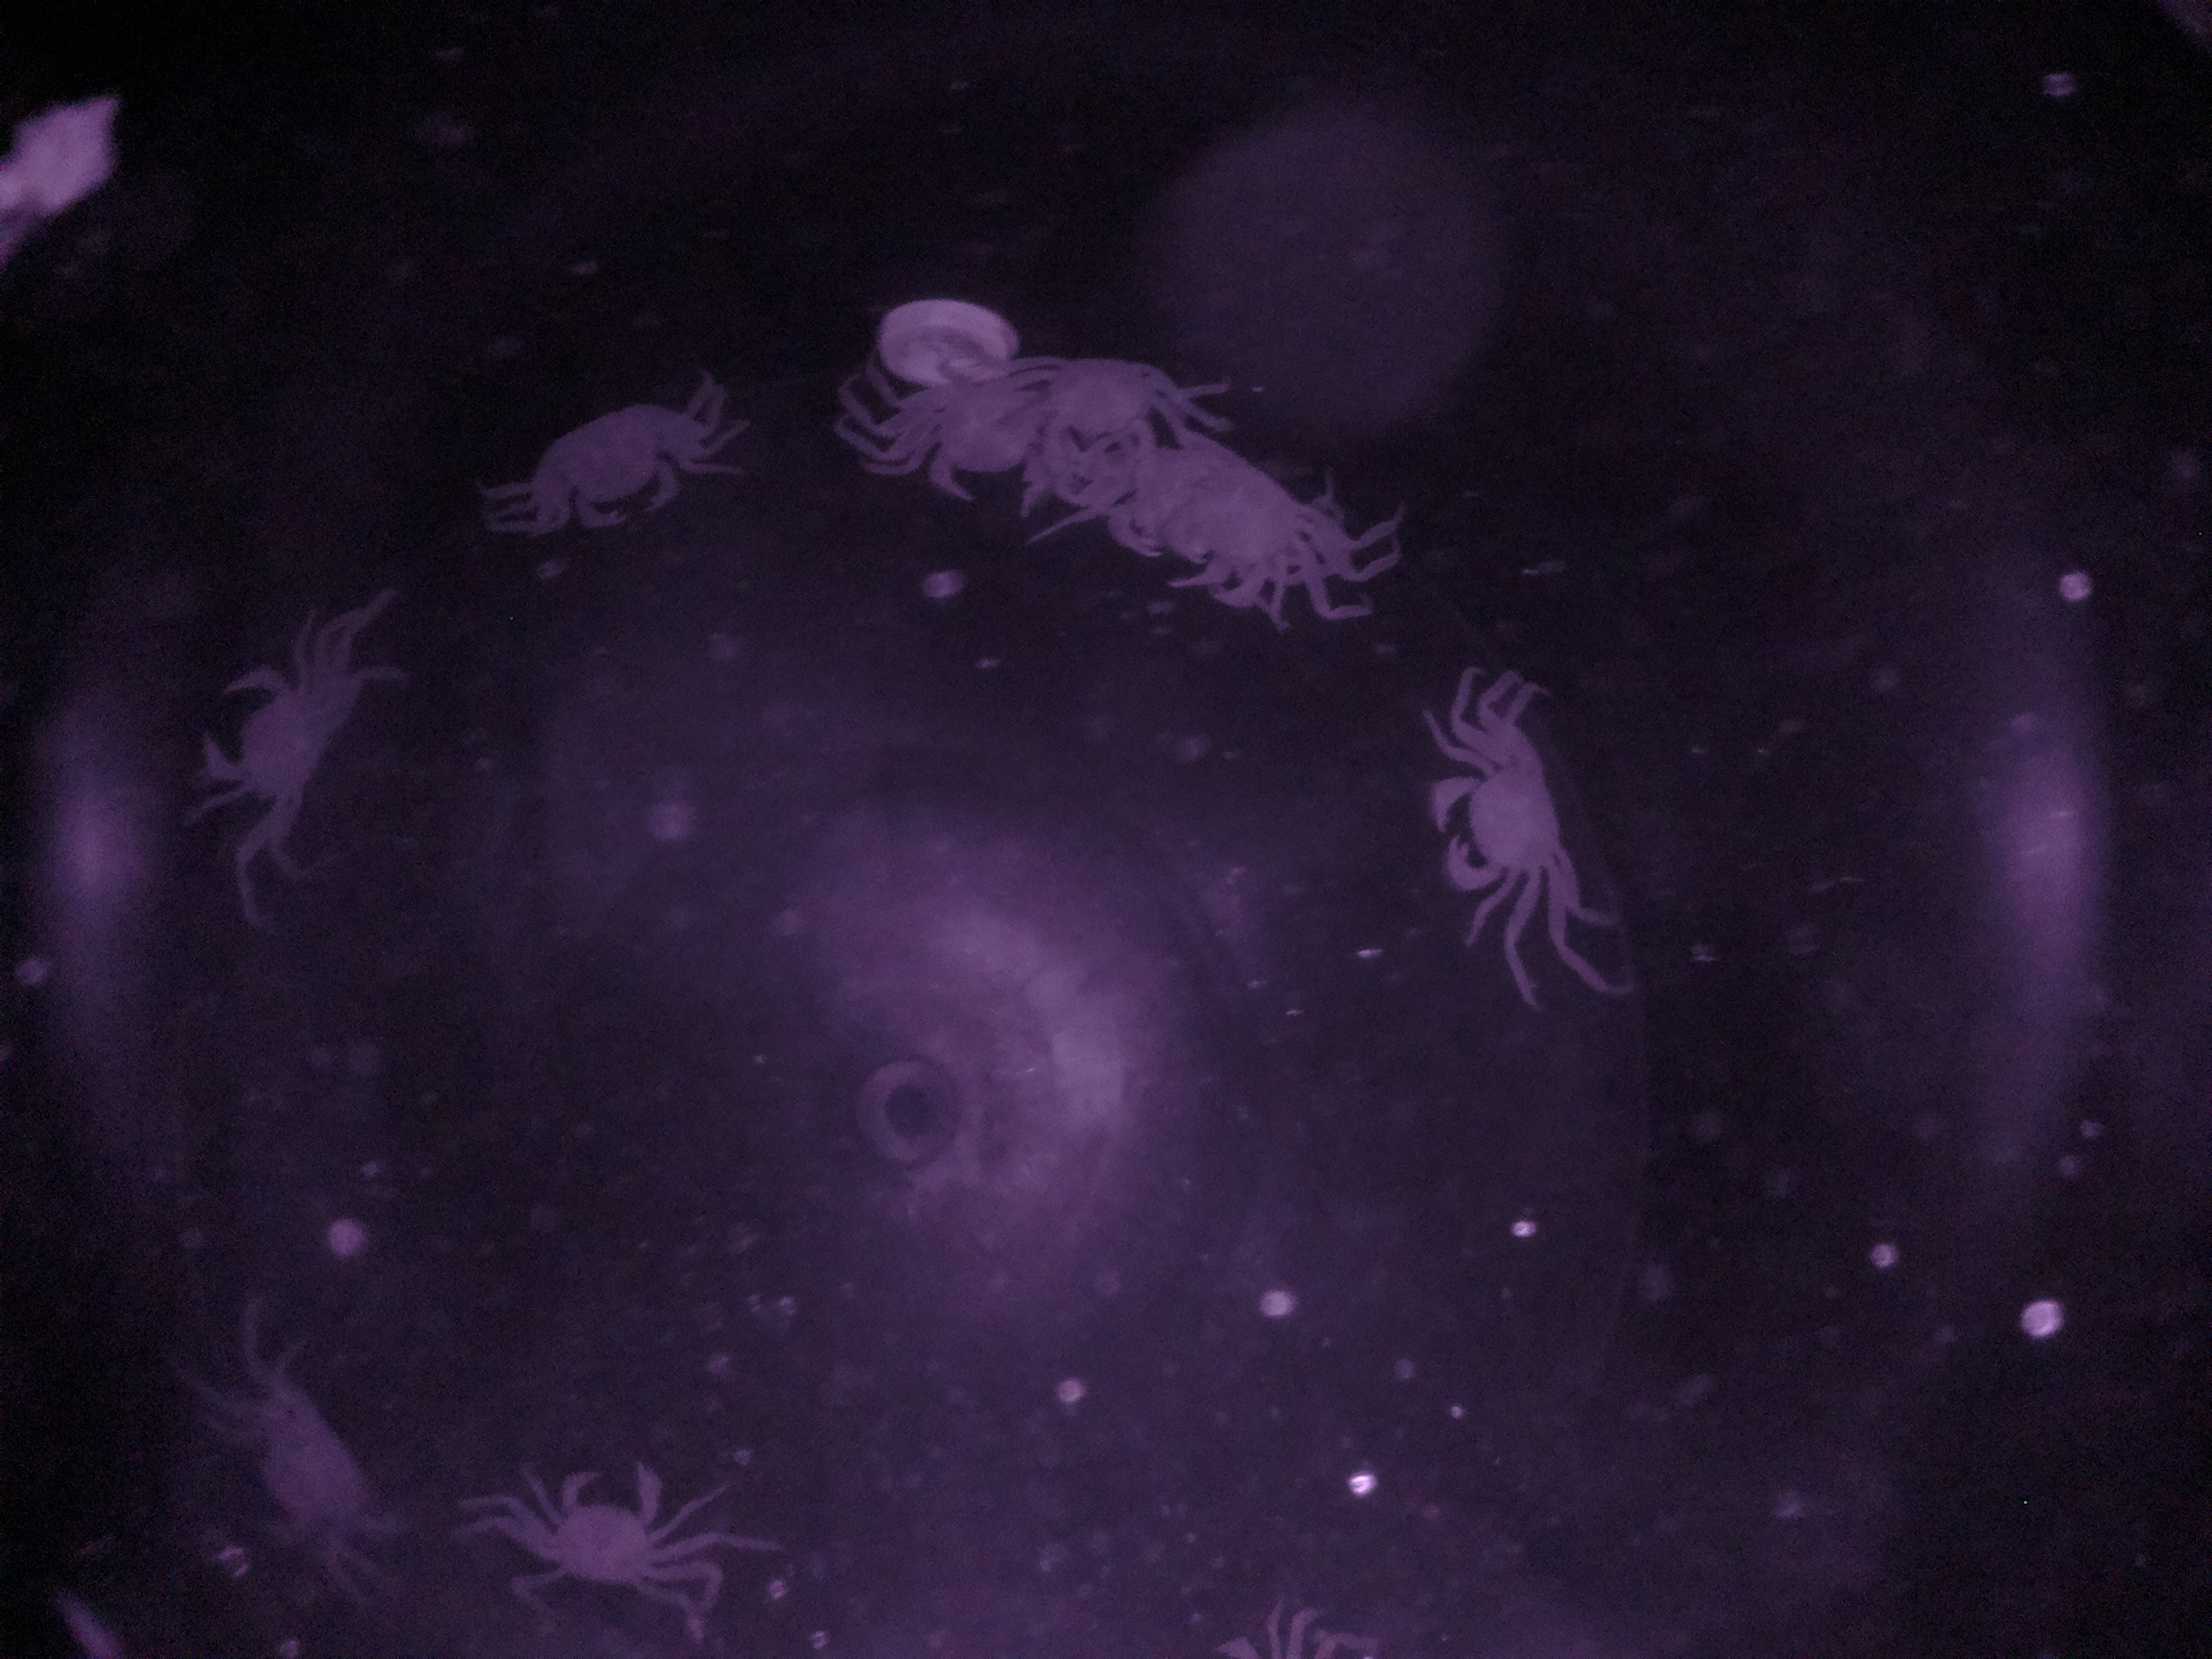Crab: (1407, 720, 1627, 946), (510, 1420, 695, 1610), (181, 652, 364, 835), (519, 399, 726, 538)
